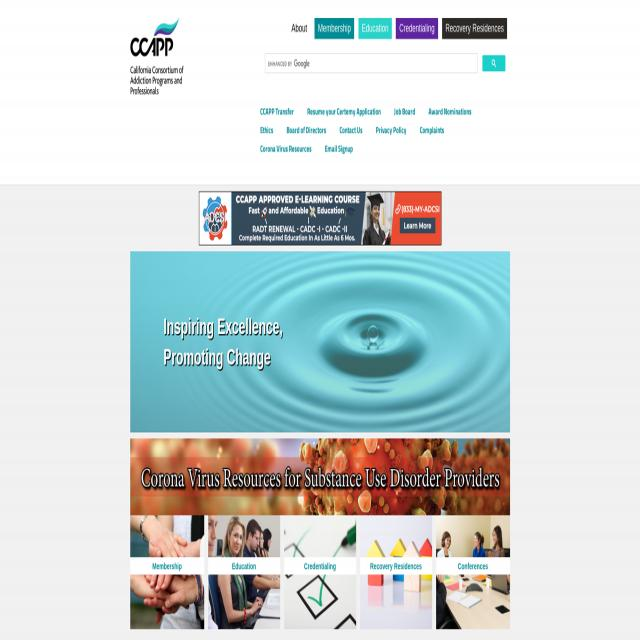button: (130, 251, 510, 433), (130, 438, 510, 516), (199, 192, 441, 246), (130, 516, 205, 630), (436, 516, 510, 630), (360, 516, 432, 630), (208, 516, 280, 629), (284, 516, 356, 629), (130, 18, 184, 95), (442, 18, 507, 38), (314, 18, 354, 39), (396, 19, 438, 38), (359, 18, 392, 38), (400, 218, 436, 233), (287, 19, 312, 39), (482, 55, 506, 71)
field: (266, 54, 478, 72)
